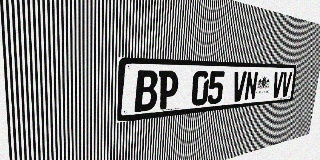0: (191, 71, 210, 106)
5: (207, 71, 225, 105)
B: (134, 70, 158, 112)
N: (244, 71, 258, 101)
P: (157, 71, 179, 110)
V: (231, 71, 247, 102), (271, 72, 284, 98), (280, 72, 292, 97)
